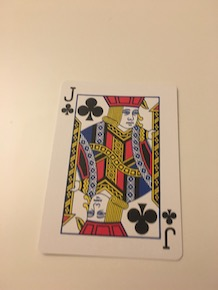JackOfClubs: (30, 73, 192, 265)
